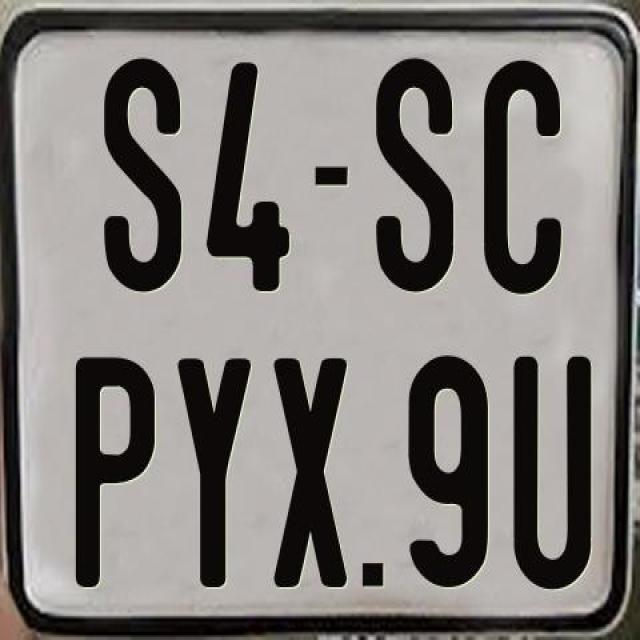4: (202, 59, 288, 298)
9: (404, 352, 487, 584)
C: (481, 56, 559, 294)
P: (76, 355, 159, 595)
S: (102, 53, 182, 290), (372, 53, 450, 294)
U: (511, 352, 596, 584)
X: (269, 356, 351, 594)
Y: (173, 353, 251, 588)
